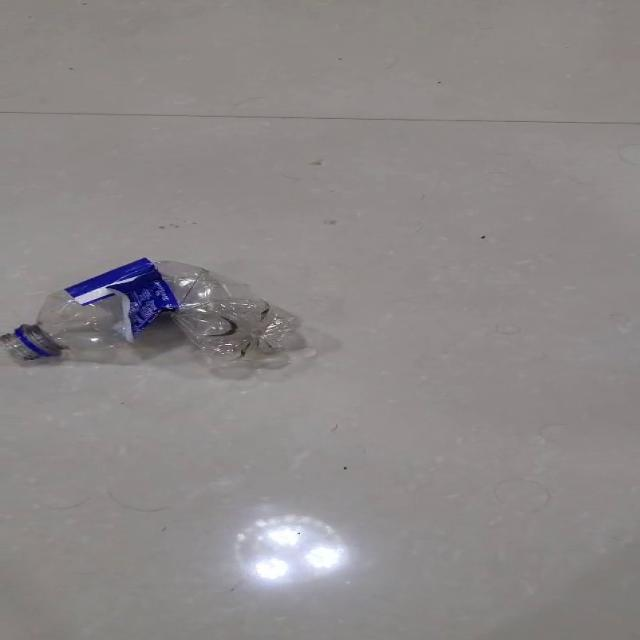plastic: (3, 257, 309, 371)
